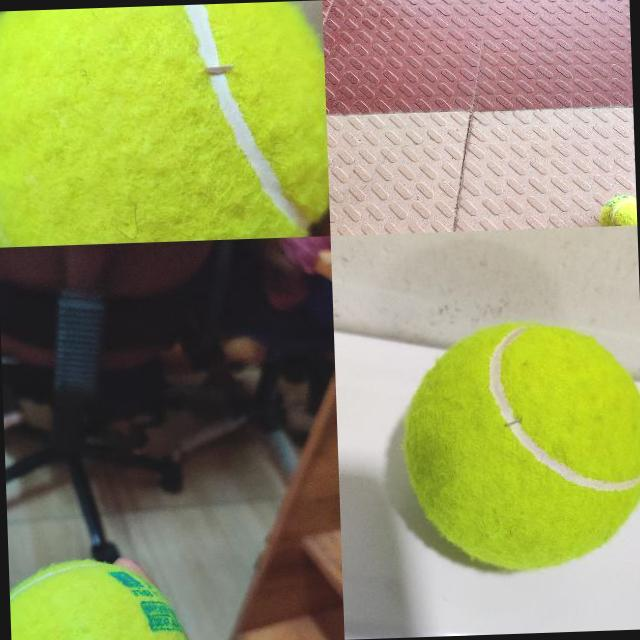Tennis Ball: (0, 0, 330, 246), (398, 315, 640, 575), (9, 554, 191, 640), (598, 194, 637, 225)
